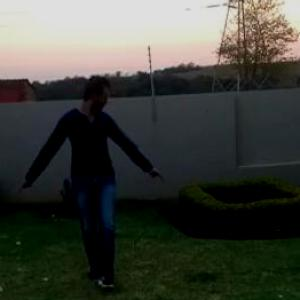land: (1, 62, 180, 299)
